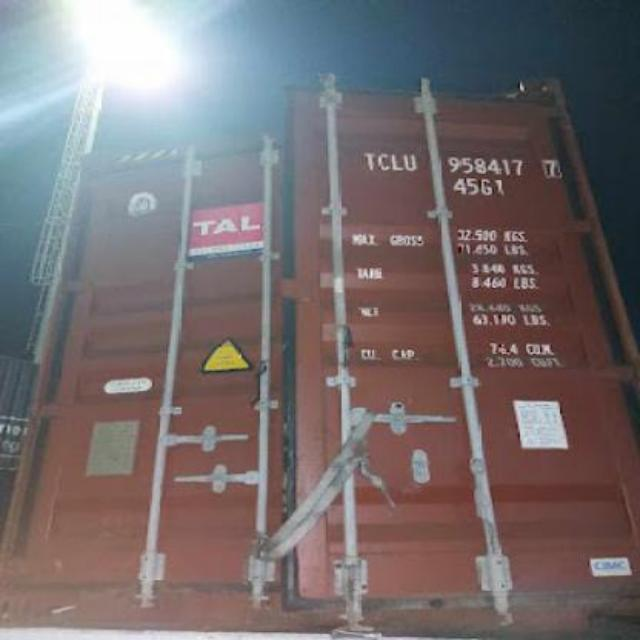1: (498, 157, 512, 177)
4: (486, 157, 499, 175)
5: (460, 156, 476, 174)
7: (511, 157, 524, 175), (544, 162, 558, 174)
8: (474, 157, 486, 175)
9: (444, 154, 460, 172)
C: (378, 152, 390, 172)
L: (391, 153, 404, 171)
T: (362, 150, 376, 172)
U: (400, 152, 418, 172)
